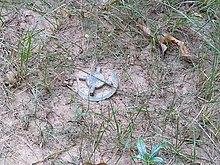pmn: (74, 64, 119, 103)
